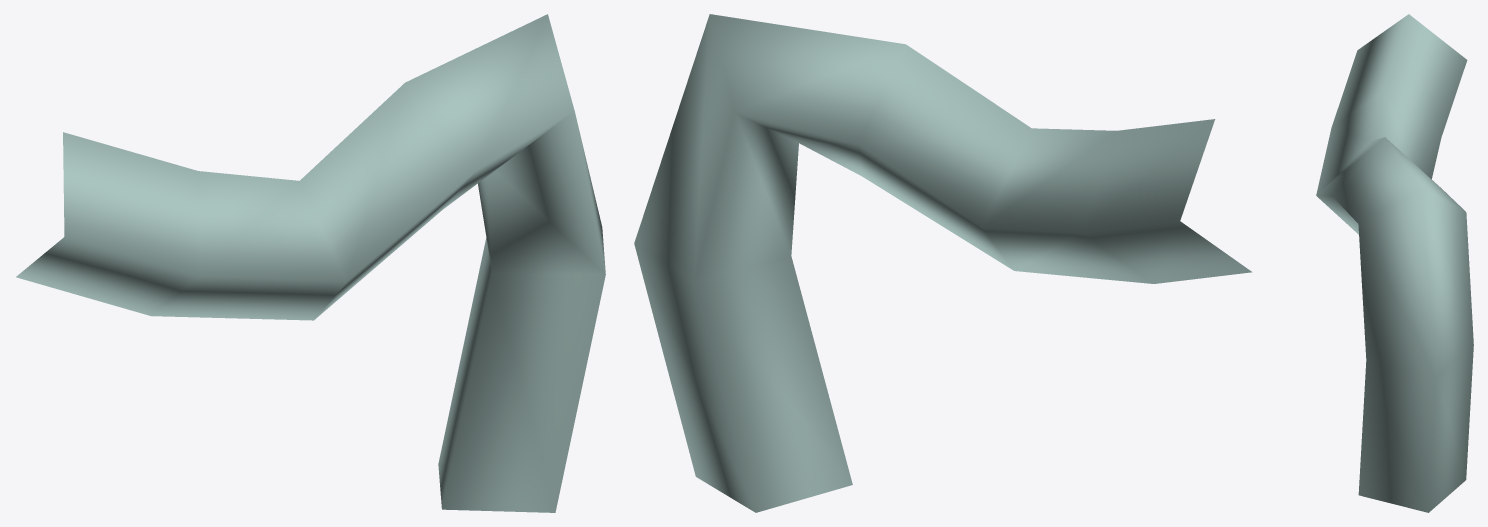
Rendered from tentacle_look_02.glb.
The picture shows the model from 3 angles, left to right: view 1: azimuth 30°, elevation 25°; view 2: azimuth 150°, elevation 25°; view 3: azimuth 270°, elevation 25°; orthographic projection. The views are drawn at different scales.
Visible parts, largest first — view 1: tentacle_look_02; view 2: tentacle_look_02; view 3: tentacle_look_02.
Boxes of the visible parts, <box> form: tentacle_look_02: <box>16,14,605,512</box>; tentacle_look_02: <box>634,14,1252,512</box>; tentacle_look_02: <box>1316,14,1473,512</box>.
Size of the model in its own units: 0.3022 by 0.225 by 0.0983.
